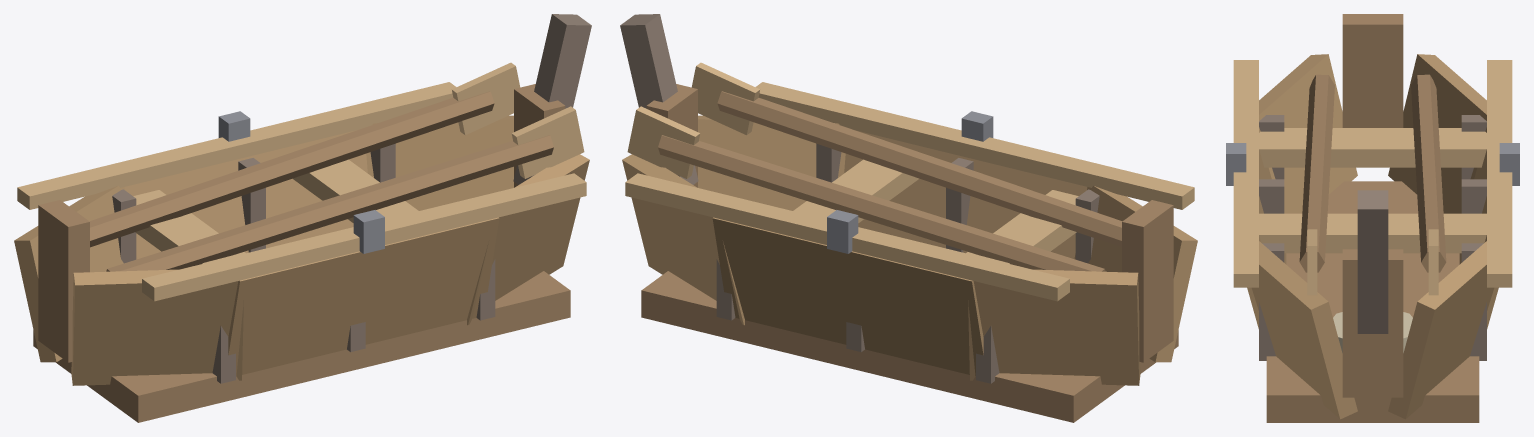
Rendered from ws_camp_boat.glb.
3 renders of one model, left to right at view 1: azimuth 30°, elevation 25°; view 2: azimuth 150°, elevation 25°; view 3: azimuth 270°, elevation 25°, orthographic.
Visible parts, largest first — view 1: ws_camp_boat; view 2: ws_camp_boat; view 3: ws_camp_boat.
Boxes of the visible parts, x1,y1,x2,y2 form: ws_camp_boat: (14, 14, 591, 422); ws_camp_boat: (620, 14, 1197, 422); ws_camp_boat: (1226, 14, 1519, 422).
Size of the model in its own units: 1.25 by 0.5518 by 0.58.
